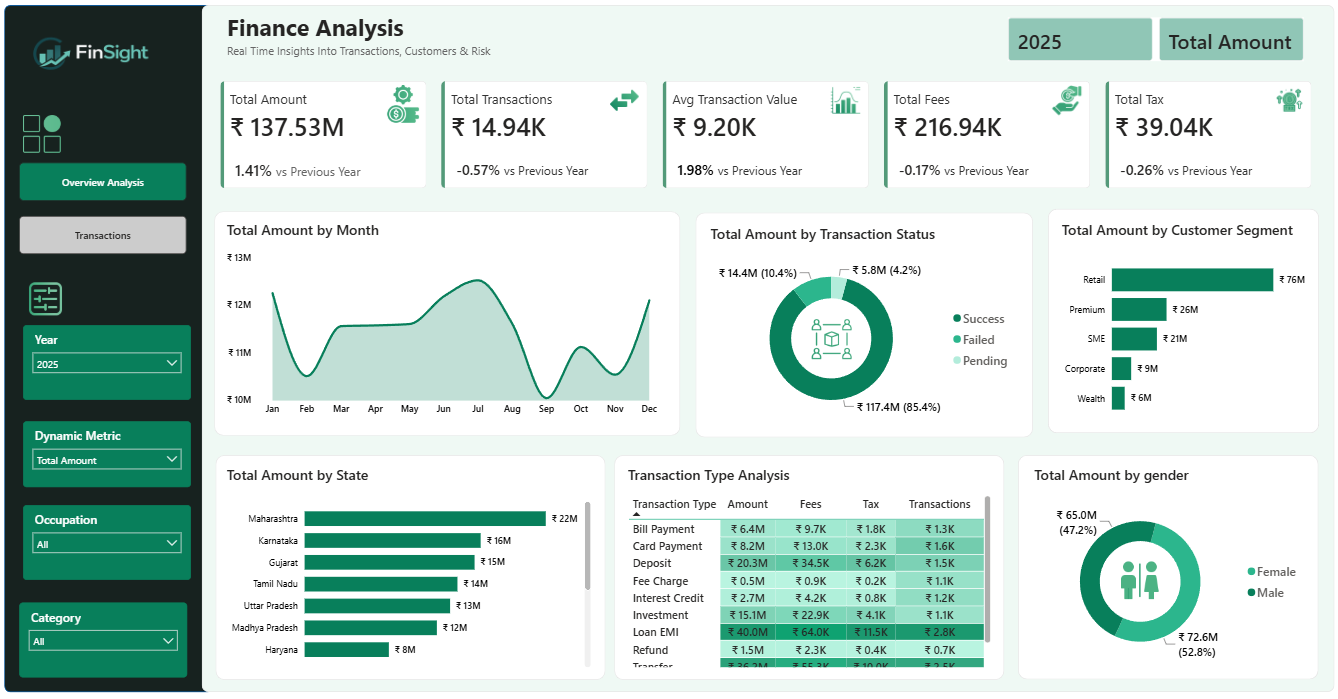

The page's visual inventory and layout, read from the dashboard file:
{"tool":"powerbi","page":{"name":"Overview Analysis","canvas":[1800,950],"ordinal":0},"visuals":[{"type":"shape","box":[14.5,12.9,279.1,916.4],"z":0},{"type":"shape","box":[277.5,12.9,1510.2,916],"z":1000},{"type":"image","box":[0,0,263,161.3],"z":2000},{"type":"cardVisual","fields":{"Data":["finance_transactions.Dashboard Title"]},"box":[295.2,13.5,410.4,80.1],"z":3000},{"type":"cardVisual","fields":{"Data":["finance_transactions.Total Amount","finance_transactions.Total Transactions","finance_transactions.Avg Transaction Value","finance_transactions.Total Fees","finance_transactions.Total Tax"]},"box":[296,107.9,1471.7,155.3],"z":4000},{"type":"slicer","fields":{"Values":["Calendar Table.Year"]},"box":[40,440.5,224,99.7],"z":5000},{"type":"image","box":[521.6,119.4,50,50],"z":6000},{"type":"image","box":[816,119.4,50.7,40.9],"z":7000},{"type":"image","box":[1406.3,119.4,50.7,40.9],"z":8000},{"type":"image","box":[1111.9,119.4,50.7,40.9],"z":9000},{"type":"image","box":[1703.9,119.4,50.7,40.9],"z":10000},{"type":"slicer","fields":{"Values":["Dynamic Metric.Dynamic Metric"]},"box":[40,569,224,88.3],"z":11000},{"type":"shape","box":[294.3,287.8,621.4,299.2],"z":12000},{"type":"areaChart","fields":{"Y":["finance_transactions.Total Amount"],"Category":["Calendar Table.Month"]},"box":[307.4,299.2,591.9,269.8],"z":13000},{"type":"cardVisual","fields":{"Data":["finance_transactions.Selected Year","finance_transactions.Selected Dynamc Measure"]},"box":[1349,24.5,405.5,68.7],"z":14000},{"type":"shape","box":[937,289.4,450,300],"z":15000},{"type":"donutChart","fields":{"Y":["finance_transactions.Total Amount"],"Category":["finance_transactions.transaction_status"]},"box":[951.7,305.8,415.3,269.8],"z":16000},{"type":"shape","box":[1406.3,284.5,361.4,299.2],"z":17000},{"type":"barChart","fields":{"Y":["finance_transactions.Total Amount"],"Category":["customers.customer_segment"]},"box":[1419.3,299.2,335.2,274.7],"z":18000},{"type":"shape","box":[296,613.2,520,300],"z":19000},{"type":"barChart","fields":{"Y":["finance_transactions.Total Amount"],"Category":["customers.state"]},"box":[307.4,626.3,495.5,274.7],"z":20000},{"type":"shape","box":[829,613.2,520,300],"z":21000},{"type":"tableEx","title":"Transaction Type Analysis","fields":{"Values":["finance_transactions.transaction_type","finance_transactions.Total Amount","finance_transactions.Total Fees","finance_transactions.Total Tax","finance_transactions.Total Transactions"]},"box":[842.1,626.3,493.8,274.7],"z":22000},{"type":"shape","box":[1367,613.2,400.6,299.2],"z":23000},{"type":"donutChart","fields":{"Y":["finance_transactions.Total Amount"],"Category":["customers.gender"]},"box":[1383.4,626.3,367.9,274.7],"z":24000},{"type":"image","box":[1075.9,430.1,83.4,57.2],"z":25000},{"type":"image","box":[1489.6,752.2,78.5,57.2],"z":26000},{"type":"slicer","fields":{"Values":["customers.occupation"]},"box":[40,680.8,224,99.7],"z":27000},{"type":"slicer","fields":{"Values":["finance_transactions.merchant_category"]},"box":[35,809.2,224,99.7],"z":28000},{"type":"pageNavigator","box":[35,223.6,223.6,123.5],"z":29000},{"type":"image","box":[40,160.2,50,50],"z":30000},{"type":"image","box":[40,380.4,60.1,50.1],"z":31000}]}

Visuals, with their boxes in screenshot pixels (x1, y1, x2, y2), scaled from the page's 1800x950 canvas onto the 1338x699 screenshot:
shape: pyautogui.locateOnScreen(11, 9, 218, 684)
shape: pyautogui.locateOnScreen(206, 9, 1329, 683)
image: pyautogui.locateOnScreen(0, 0, 195, 119)
cardVisual - finance_transactions.Dashboard Title: pyautogui.locateOnScreen(219, 10, 524, 69)
cardVisual - finance_transactions.Total Amount x finance_transactions.Total Transactions: pyautogui.locateOnScreen(220, 79, 1314, 194)
slicer - Calendar Table.Year: pyautogui.locateOnScreen(30, 324, 196, 397)
image: pyautogui.locateOnScreen(388, 88, 425, 125)
image: pyautogui.locateOnScreen(607, 88, 644, 118)
image: pyautogui.locateOnScreen(1045, 88, 1083, 118)
image: pyautogui.locateOnScreen(827, 88, 864, 118)
image: pyautogui.locateOnScreen(1267, 88, 1304, 118)
slicer - Dynamic Metric.Dynamic Metric: pyautogui.locateOnScreen(30, 419, 196, 484)
shape: pyautogui.locateOnScreen(219, 212, 681, 432)
areaChart - finance_transactions.Total Amount x Calendar Table.Month: pyautogui.locateOnScreen(229, 220, 668, 419)
cardVisual - finance_transactions.Selected Year x finance_transactions.Selected Dynamc Measure: pyautogui.locateOnScreen(1003, 18, 1304, 69)
shape: pyautogui.locateOnScreen(697, 213, 1031, 434)
donutChart - finance_transactions.Total Amount x finance_transactions.transaction_status: pyautogui.locateOnScreen(707, 225, 1016, 424)
shape: pyautogui.locateOnScreen(1045, 209, 1314, 429)
barChart - finance_transactions.Total Amount x customers.customer_segment: pyautogui.locateOnScreen(1055, 220, 1304, 422)
shape: pyautogui.locateOnScreen(220, 451, 607, 672)
barChart - finance_transactions.Total Amount x customers.state: pyautogui.locateOnScreen(229, 461, 597, 663)
shape: pyautogui.locateOnScreen(616, 451, 1003, 672)
"Transaction Type Analysis" tableEx: pyautogui.locateOnScreen(626, 461, 993, 663)
shape: pyautogui.locateOnScreen(1016, 451, 1314, 671)
donutChart - finance_transactions.Total Amount x customers.gender: pyautogui.locateOnScreen(1028, 461, 1302, 663)
image: pyautogui.locateOnScreen(800, 316, 862, 359)
image: pyautogui.locateOnScreen(1107, 553, 1166, 596)
slicer - customers.occupation: pyautogui.locateOnScreen(30, 501, 196, 574)
slicer - finance_transactions.merchant_category: pyautogui.locateOnScreen(26, 595, 193, 669)
pageNavigator: pyautogui.locateOnScreen(26, 165, 192, 255)
image: pyautogui.locateOnScreen(30, 118, 67, 155)
image: pyautogui.locateOnScreen(30, 280, 74, 317)
